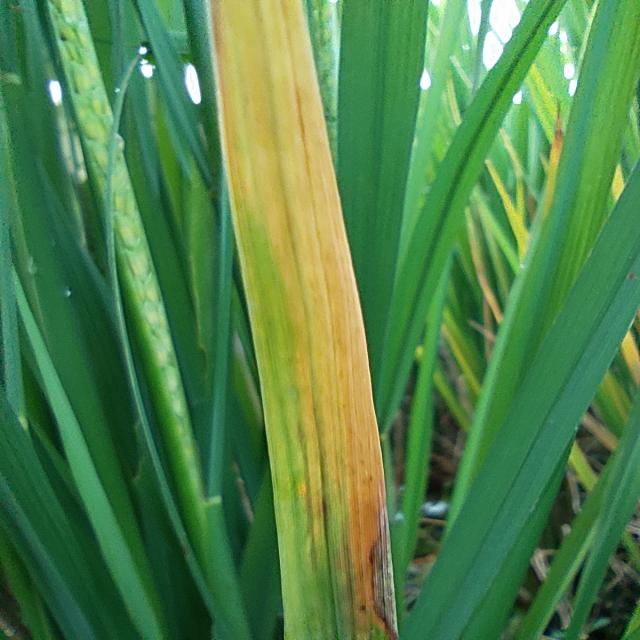Leaf_Blast: (364, 423, 403, 640)
